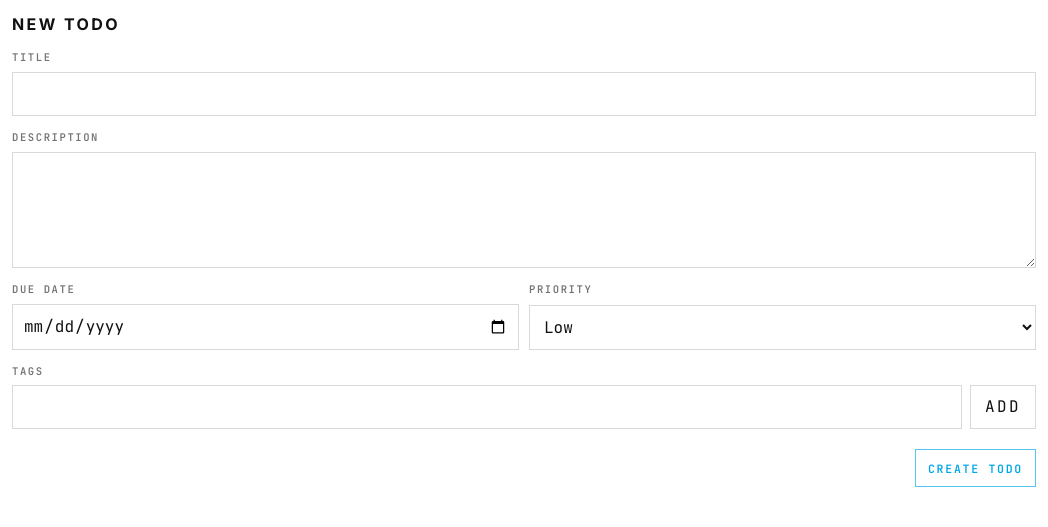
Scenario: todos UI › TodoForm_OnValidationError_StaysMounted_ShowsFieldErrors
Type "Invalid server title" into the field labelled "Title" at [524, 94], box x1=12 y1=72 x2=1036 y2=116
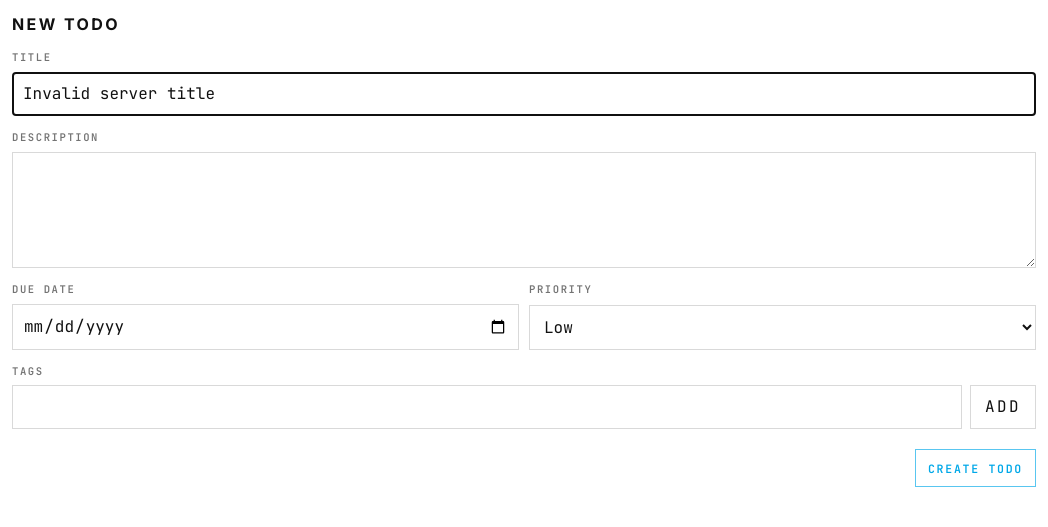
Click the button with test id "todo-create-submit" at [976, 468], box x1=915 y1=449 x2=1036 y2=487
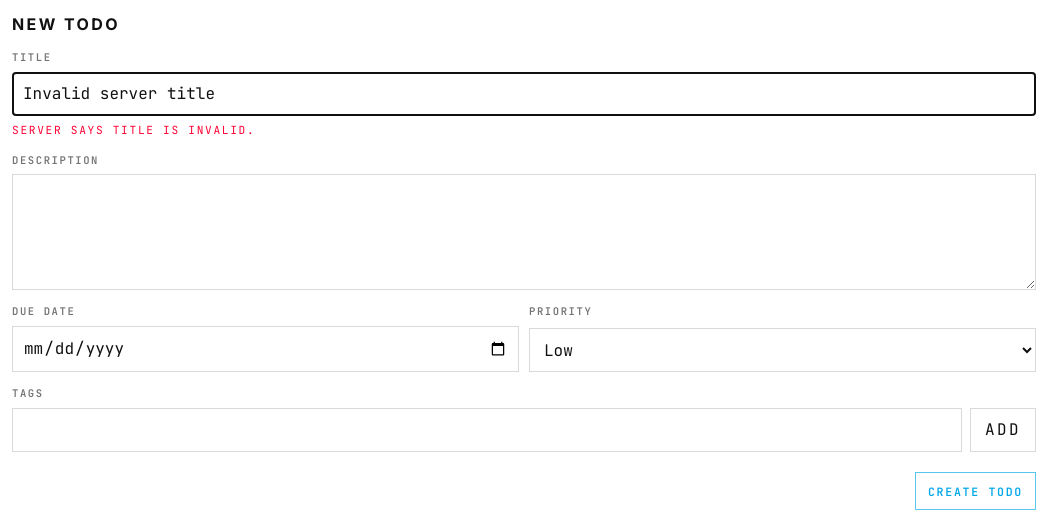
Check: the button with test id "todo-create-submit" is shown, box x1=915 y1=472 x2=1036 y2=510
Check: the text "Server says title is invalid." is shown, box x1=12 y1=123 x2=255 y2=137
